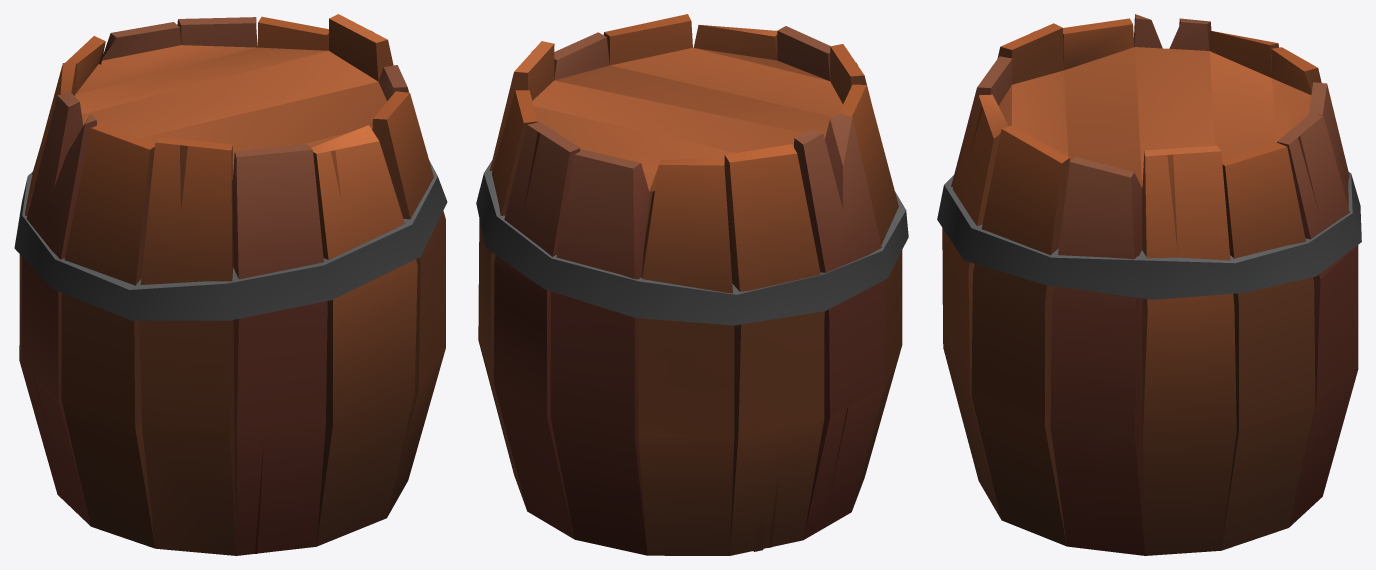
The model's file is R_Barrel.fbx.
3 views of the same model, side by side, from view 1: azimuth 30°, elevation 25°; view 2: azimuth 150°, elevation 25°; view 3: azimuth 270°, elevation 25° (orthographic).
Parts seen in each view (by area): view 1: R_Barrel.001; view 2: R_Barrel.001; view 3: R_Barrel.001.
Part boxes in pixels (x1,y1,x2,y2): R_Barrel.001: (14, 14, 447, 555); R_Barrel.001: (476, 14, 908, 555); R_Barrel.001: (937, 14, 1361, 555).
Bounding box in the file's own units: 0.9212 × 0.95 × 0.915.
